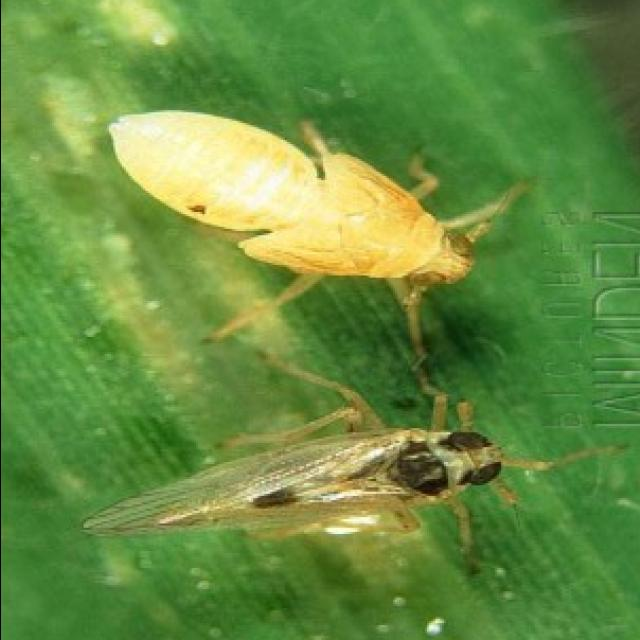brown plant hopper: (108, 114, 534, 358), (85, 379, 555, 536)
